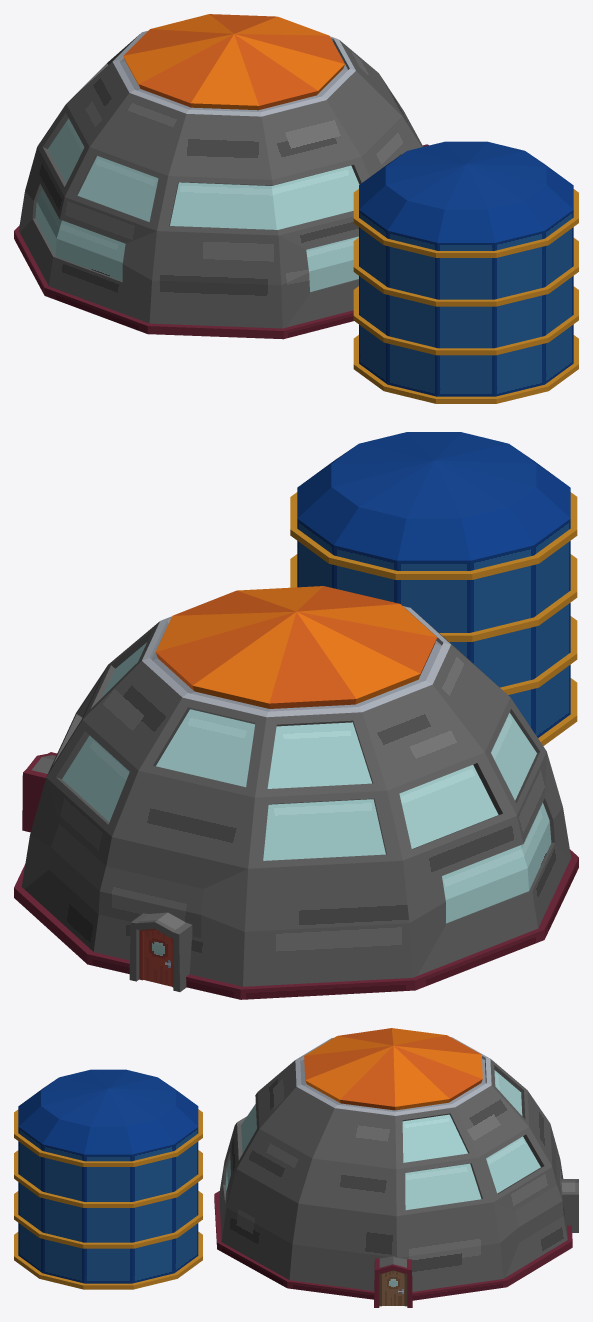
File: W.house_grey.gltf
3 renders of one model, top to bottom at view 1: azimuth 30°, elevation 25°; view 2: azimuth 150°, elevation 25°; view 3: azimuth 270°, elevation 25°, orthographic. The views are drawn at different scales.
Parts seen in each view (by area): view 1: s3_2, cylinder; view 2: s3_2, cylinder; view 3: s3_2, cylinder.
Part boxes in pixels (<box>): s3_2: <box>14,14,428,339</box>; cylinder: <box>353,141,578,403</box>; s3_2: <box>14,586,578,999</box>; cylinder: <box>290,432,577,745</box>; s3_2: <box>214,1028,578,1307</box>; cylinder: <box>14,1069,202,1289</box>.
Size of the model in its own units: 6.39 by 3.29 by 9.42.
2 materials, 2 textured.
